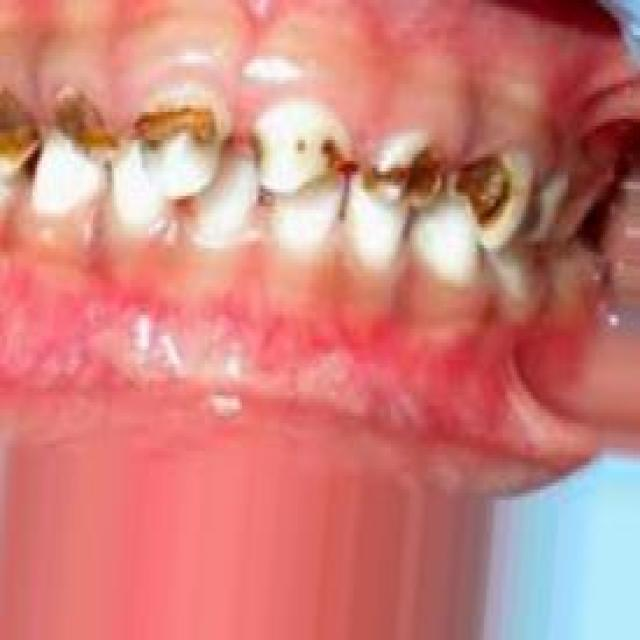caries: (126, 82, 232, 197), (248, 97, 350, 194), (354, 124, 445, 222), (451, 137, 523, 250), (51, 74, 120, 178), (0, 70, 46, 188)
